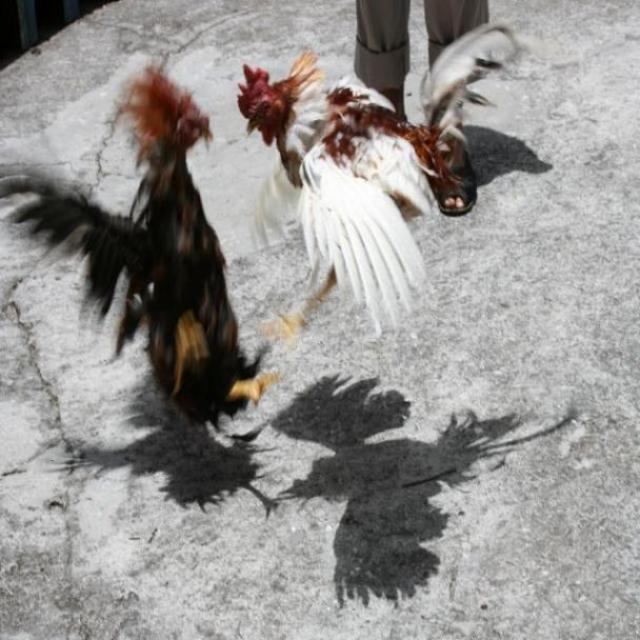Chicken: (229, 23, 535, 348), (5, 61, 249, 422)
